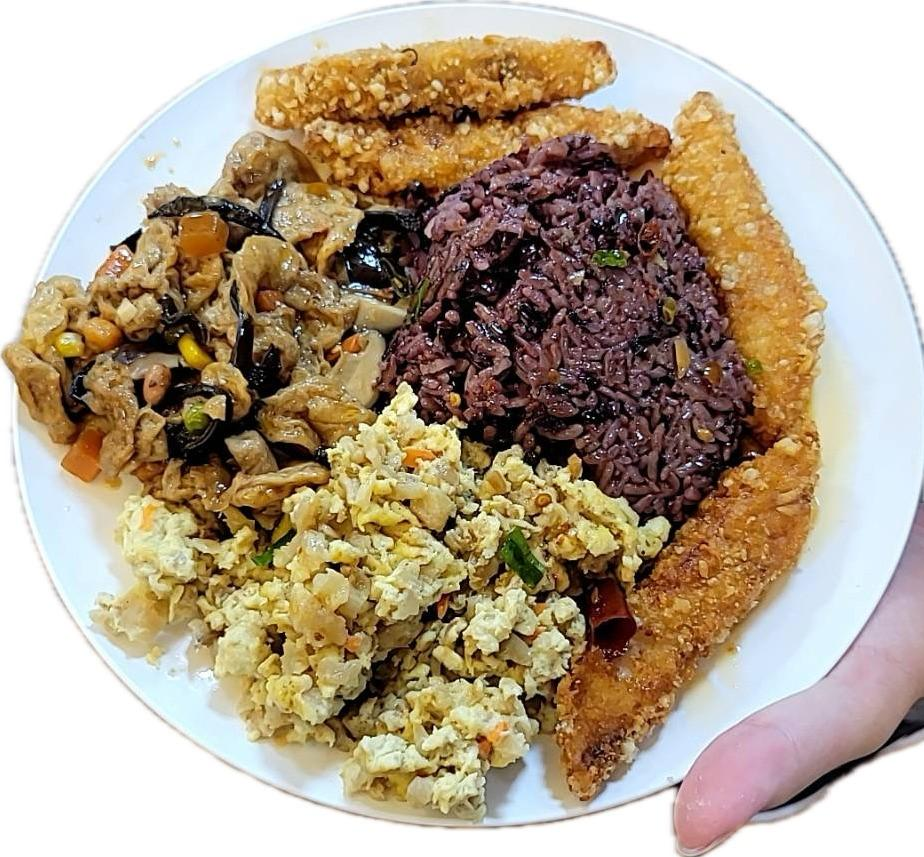big fried chicken leg: (10, 0, 924, 831)
braised fish: (400, 124, 749, 515)
braised fish fillet: (100, 422, 671, 812), (12, 134, 402, 521)
braised pork: (254, 30, 834, 804)
